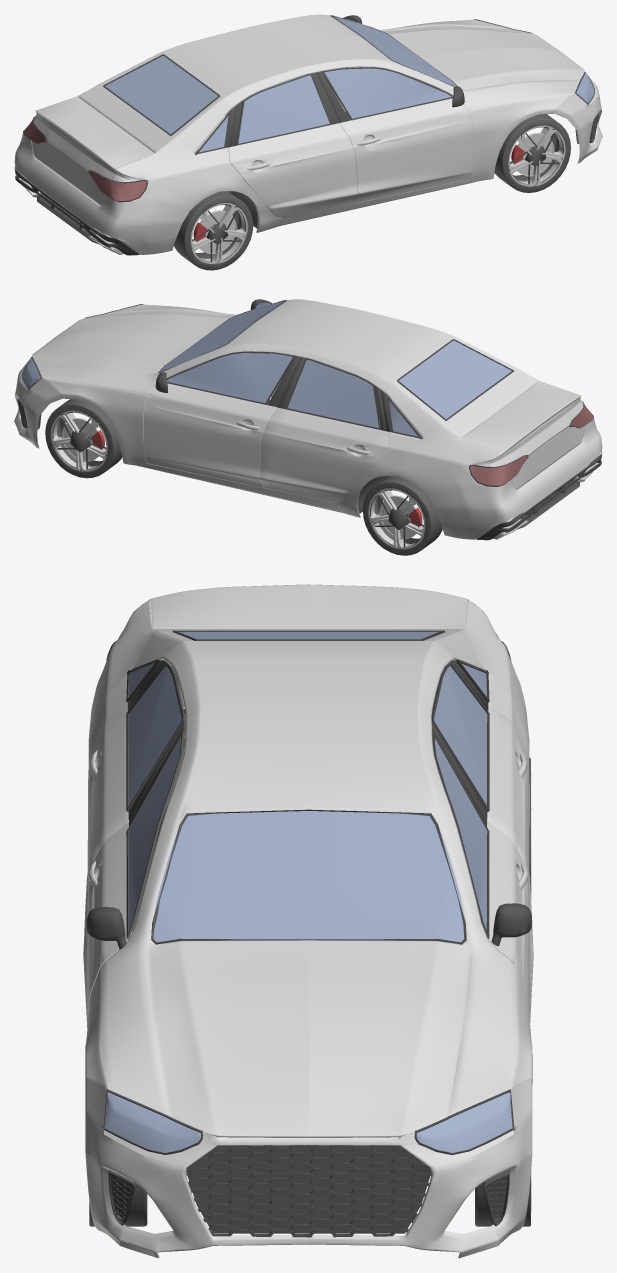
The model's file is SMALLBUS.glb.
3 renders of one model, top to bottom at view 1: azimuth 30°, elevation 25°; view 2: azimuth 150°, elevation 25°; view 3: azimuth 270°, elevation 25°, orthographic. The views are drawn at different scales.
Parts seen in each view (by area): view 1: body, 15 - Default.008; view 2: body, 15 - Default.008; view 3: body, 15 - Default.008.
Boxes of the visible parts, x1,y1,x2,y2 form: body: (14,14,602,254); 15 - Default.008: (15,15,598,270); body: (14,299,602,539); 15 - Default.008: (17,299,601,555); body: (83,584,533,1258); 15 - Default.008: (86,630,532,1237).
Bounding box in the file's own units: 4.83 × 1.4 × 1.85.
